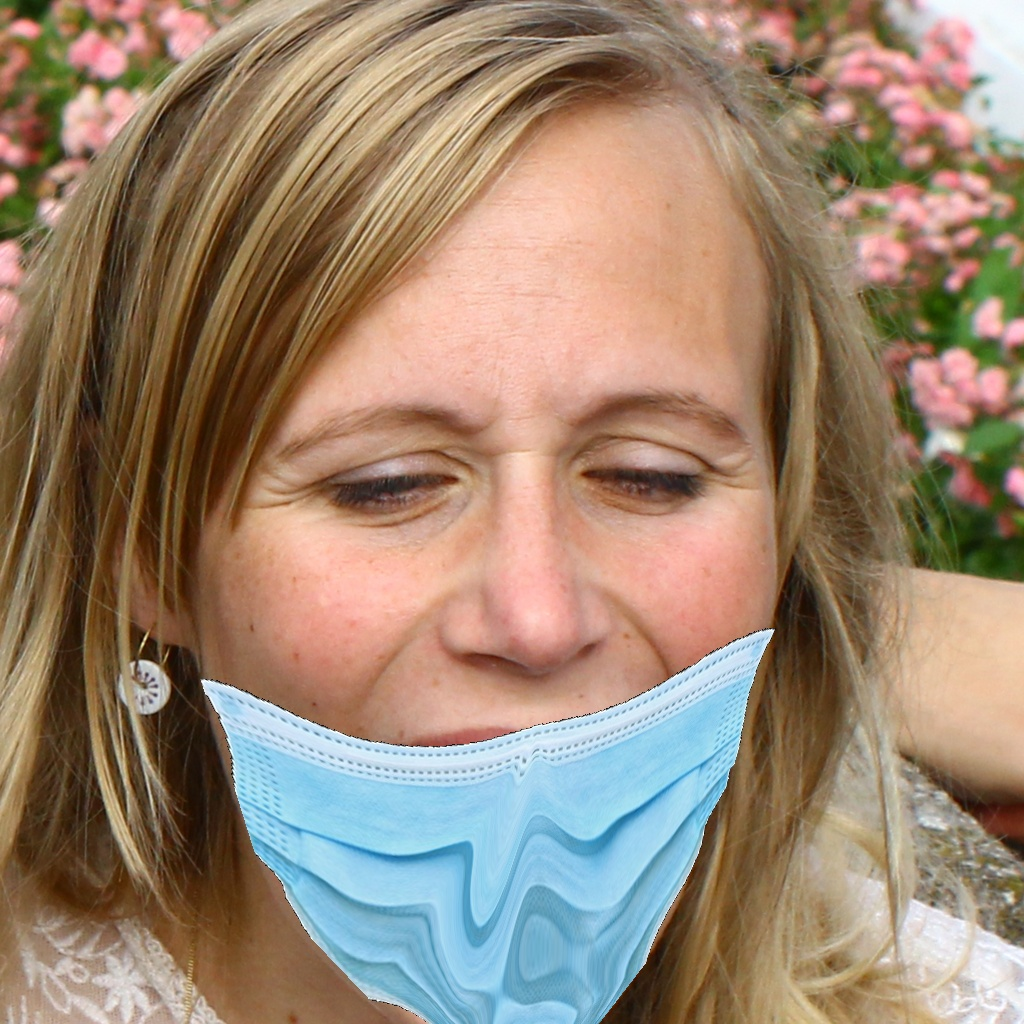mascarilla_mal_puesta: (182, 280, 807, 1024)
